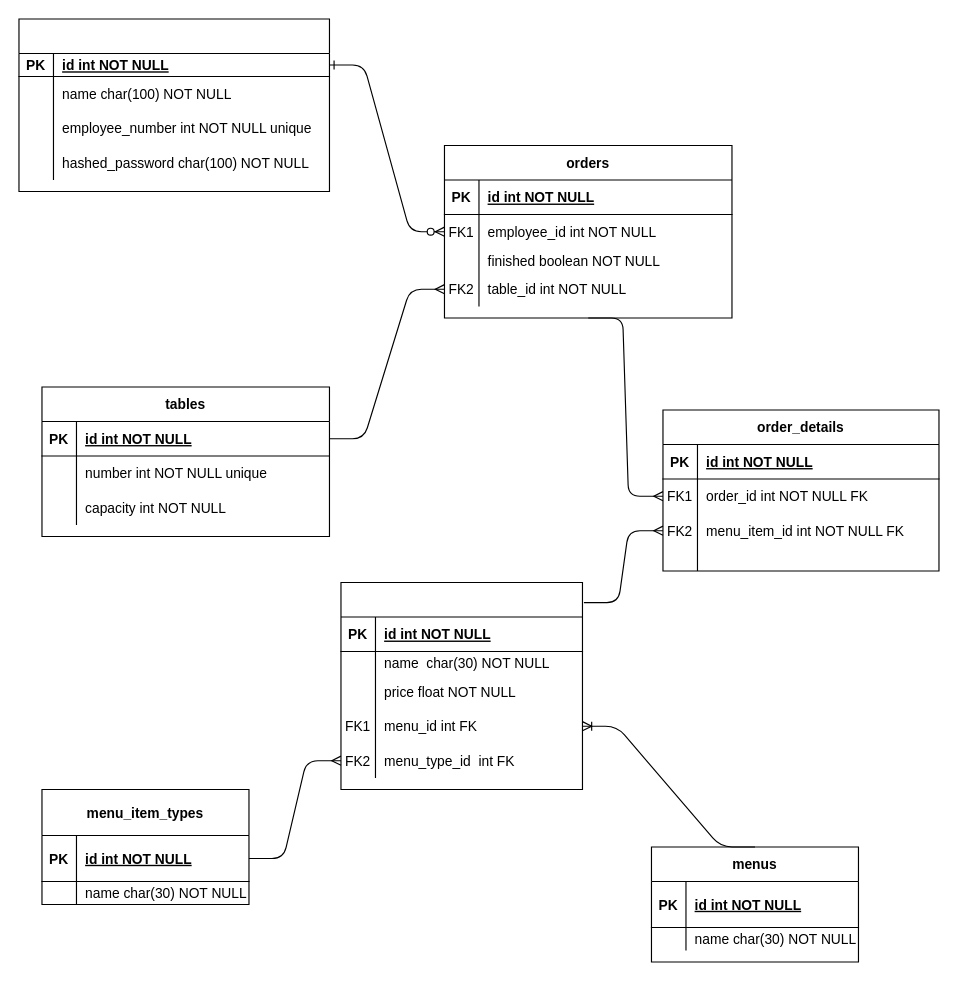
Some shapes in this 958 by 981 pixel diagram are drawn without their labels. Each missing label, with the box of its shape:
employees: (18, 18, 329, 191)
menu_items: (340, 581, 582, 789)
